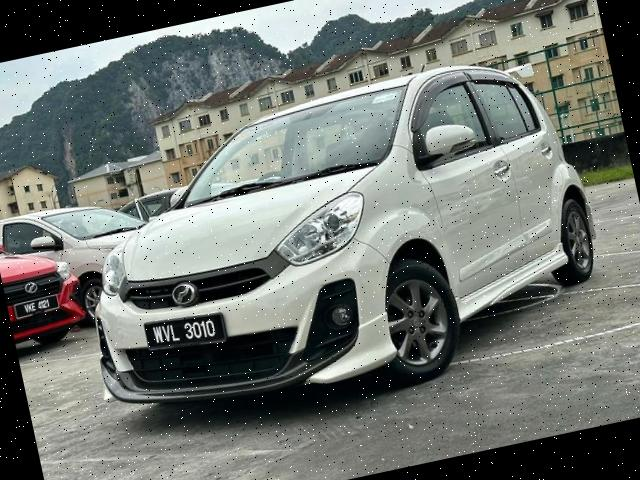License_Plate: (142, 304, 236, 356), (15, 295, 60, 319)
car: (52, 45, 620, 443)
